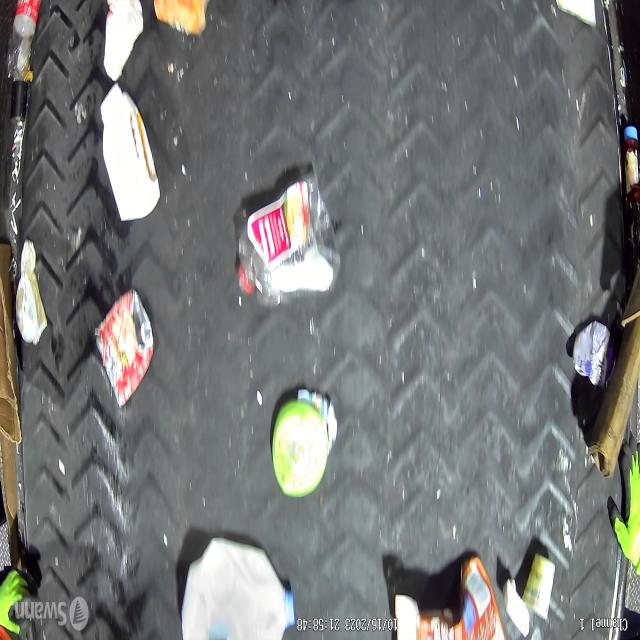can: (92, 289, 158, 407), (571, 316, 618, 392)
milk_jug: (179, 533, 297, 640)
plastic_bottle: (234, 169, 342, 307), (7, 0, 42, 84)
